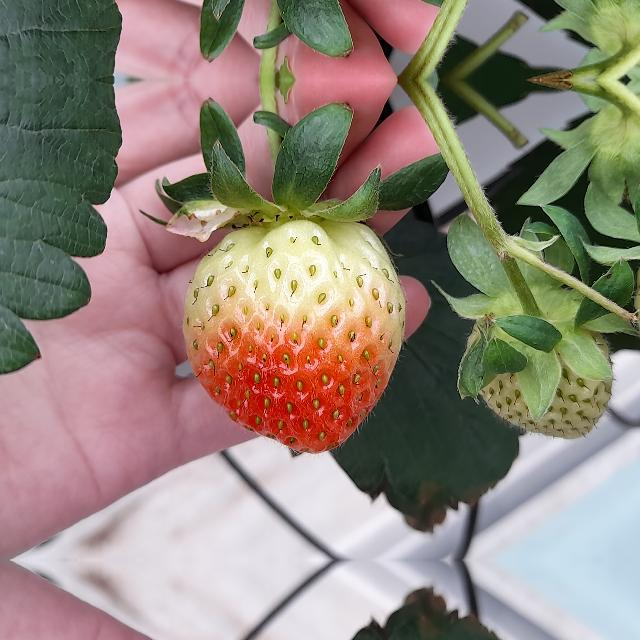Health_50: (182, 213, 406, 453)
